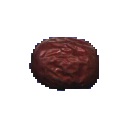gd: (16, 19, 122, 121)
